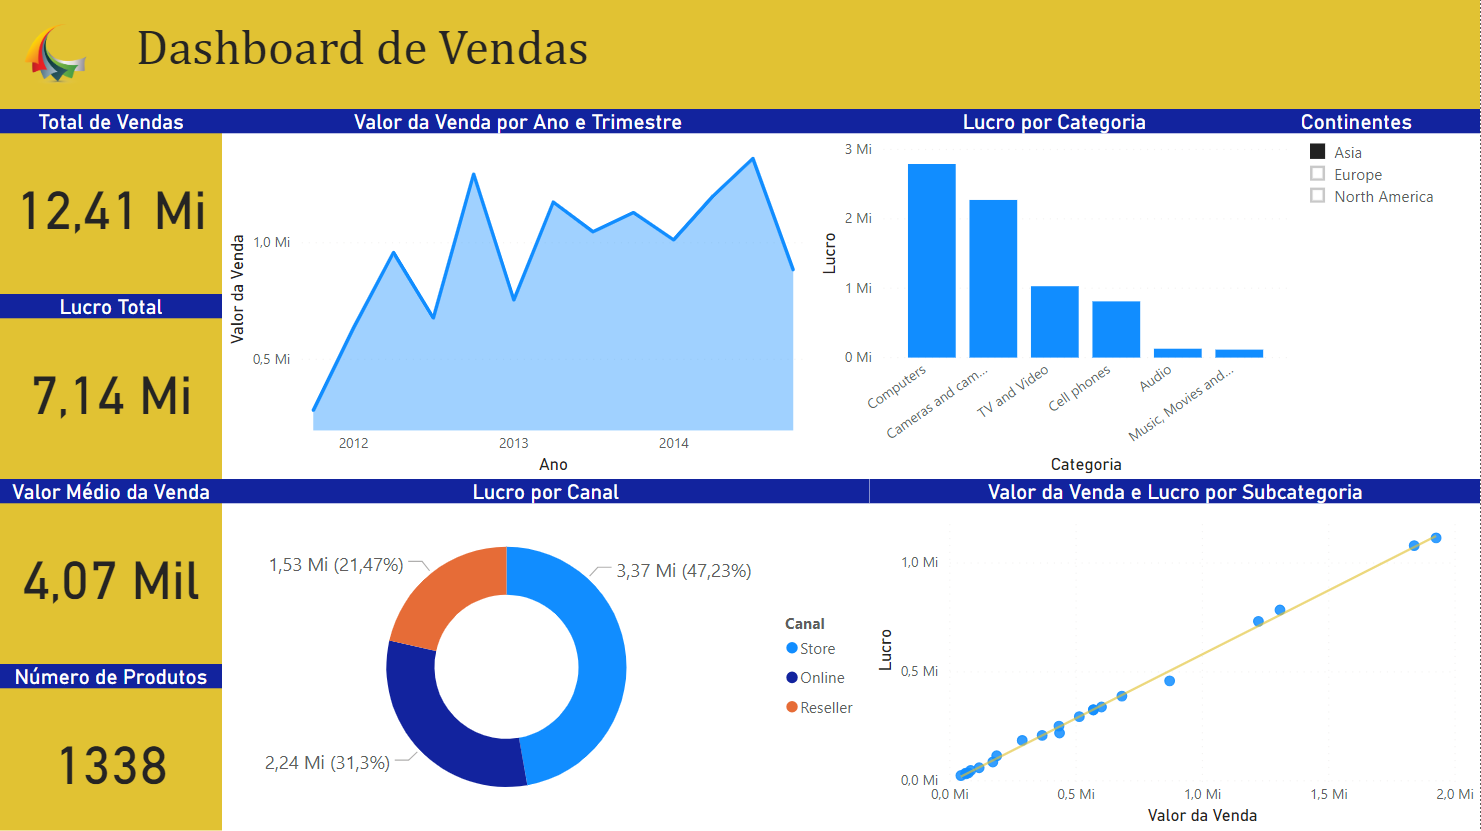

What the dashboard file says about the page in this screenshot:
{"tool":"powerbi","page":{"name":"Página 1","canvas":[1280,720],"ordinal":0},"visuals":[{"type":"basicShape","box":[0,0,1280,96],"z":0},{"type":"scatterChart","fields":{"Category":["Data1.Subcategoria"],"X":["Sum(Data1.Valor da Venda)"],"Y":["Sum(Data1.Lucro)"]},"box":[752,416,528,304],"z":1000},{"type":"slicer","title":"Continentes","fields":{"Values":["Data1.Continente"]},"box":[1120,96,160,320],"z":2000},{"type":"areaChart","fields":{"Category":["Data1.Data Venda.Variation.Hierarquia de datas.Ano","Data1.Data Venda.Variation.Hierarquia de datas.Trimestre","Data1.Data Venda.Variation.Hierarquia de datas.Mês","Data1.Data Venda.Variation.Hierarquia de datas.Dia"],"Y":["Sum(Data1.Valor da Venda)"]},"box":[192,96,512,320],"z":3000},{"type":"basicShape","box":[0,96,192,624],"z":4000},{"type":"image","box":[0,16,96,64],"z":5000},{"type":"card","title":"Total de Vendas","fields":{"Values":["Sum(Data1.Valor da Venda)"]},"box":[0,96,192,144],"z":6000},{"type":"textbox","box":[112,16,464,64],"z":7000},{"type":"card","title":"Lucro Total","fields":{"Values":["Sum(Data1.Lucro)"]},"box":[0,256,192,144],"z":8000},{"type":"card","title":"Valor Médio da Venda","fields":{"Values":["Avg(Data1.Valor da Venda)"]},"box":[0,416,192,144],"z":9000},{"type":"card","title":"Número de Produtos","fields":{"Values":["Count(Data1.Produto)"]},"box":[0,576,192,144],"z":10000},{"type":"clusteredColumnChart","fields":{"Category":["Data1.Categoria"],"Y":["Sum(Data1.Lucro)"]},"box":[704,96,416,320],"z":11000},{"type":"donutChart","fields":{"Category":["Data1.Canal"],"Y":["Sum(Data1.Lucro)"]},"box":[192,416,560,304],"z":12000}]}

Visuals, with their boxes in screenshot pixels (x1, y1, x2, y2), scaled from the page's 1280x720 canvas onto the 1481x831 screenshot:
basicShape: x1=0 y1=0 x2=1480 y2=111
scatterChart - Data1.Subcategoria x Sum(Data1.Valor da Venda): x1=870 y1=480 x2=1480 y2=830
"Continentes" slicer: x1=1296 y1=111 x2=1480 y2=480
areaChart - Data1.Data Venda.Variation.Hierarquia de datas.Ano x Data1.Data Venda.Variation.Hierarquia de datas.Trimestre: x1=222 y1=111 x2=815 y2=480
basicShape: x1=0 y1=111 x2=222 y2=830
image: x1=0 y1=18 x2=111 y2=92
"Total de Vendas" card: x1=0 y1=111 x2=222 y2=277
textbox: x1=130 y1=18 x2=666 y2=92
"Lucro Total" card: x1=0 y1=295 x2=222 y2=462
"Valor Médio da Venda" card: x1=0 y1=480 x2=222 y2=646
"Número de Produtos" card: x1=0 y1=665 x2=222 y2=830
clusteredColumnChart - Data1.Categoria x Sum(Data1.Lucro): x1=815 y1=111 x2=1296 y2=480
donutChart - Data1.Canal x Sum(Data1.Lucro): x1=222 y1=480 x2=870 y2=830
